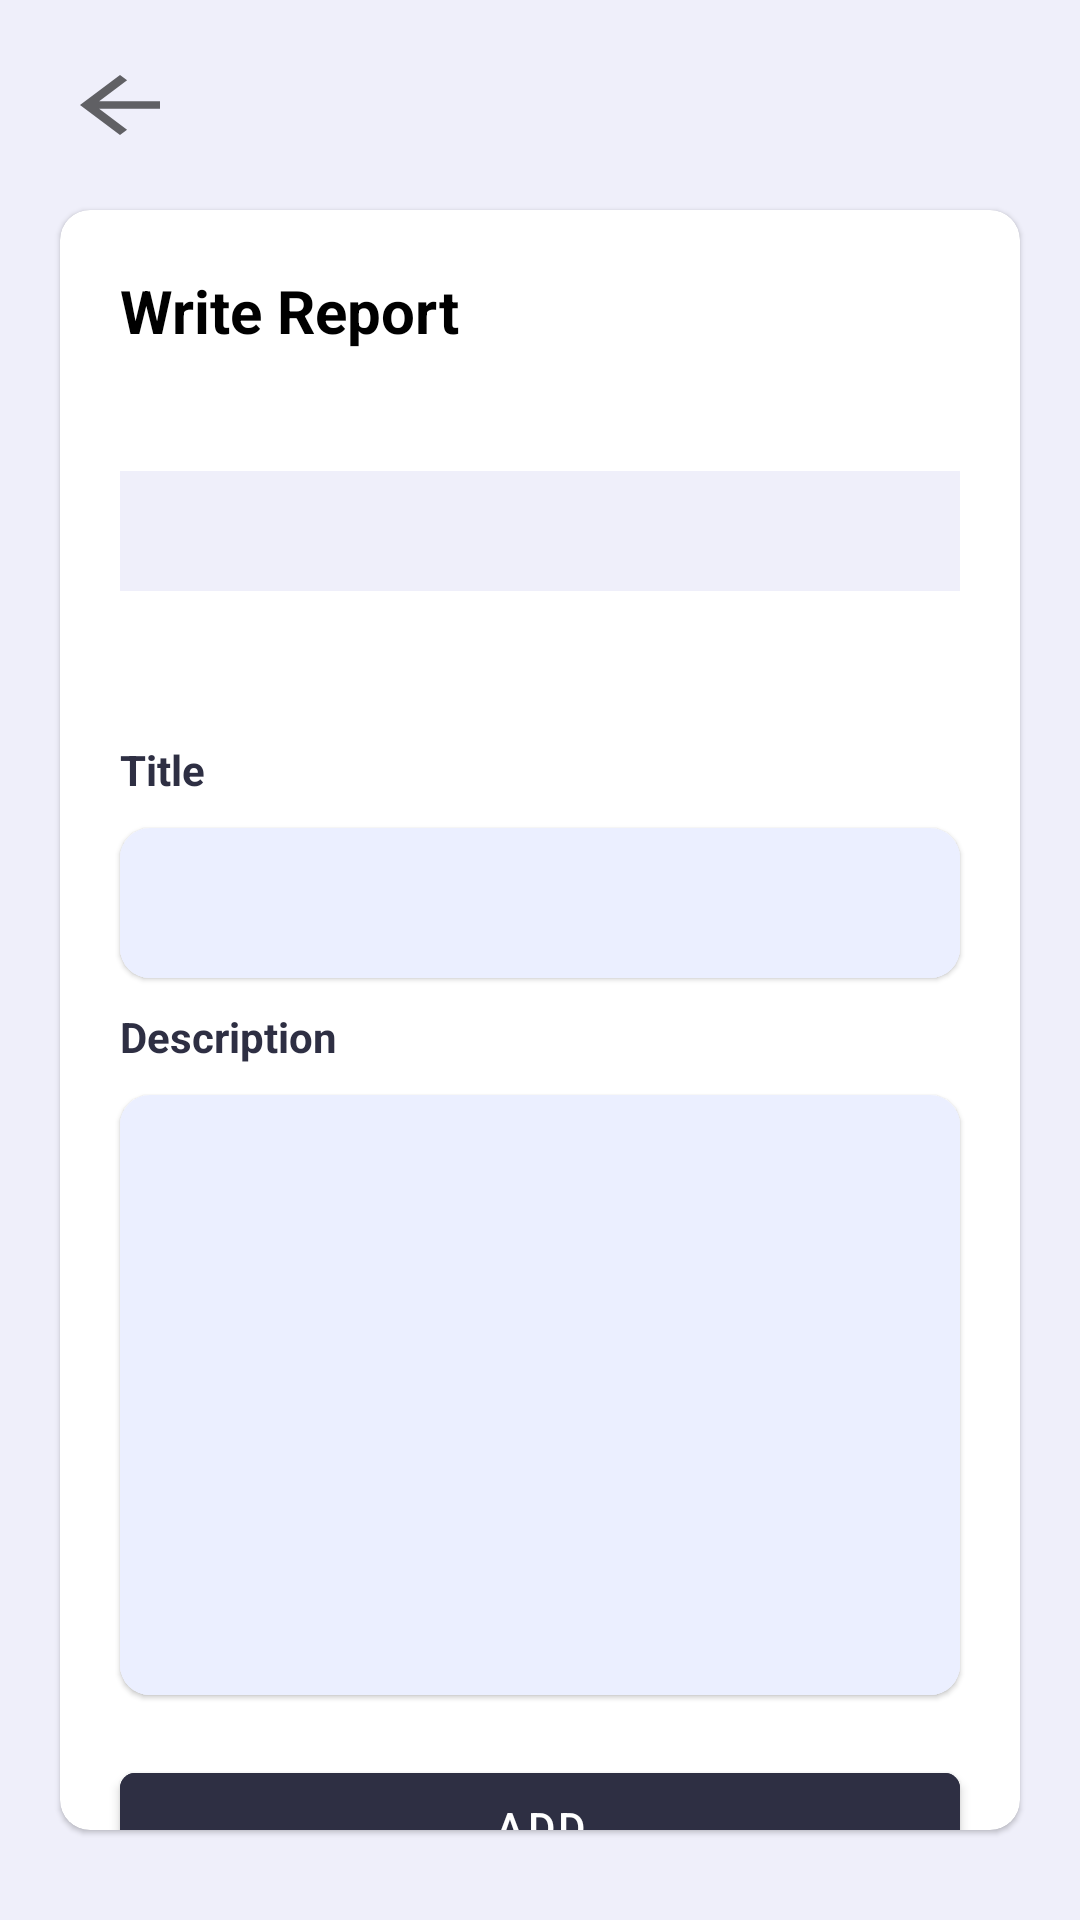

Icon click points for this 1080*1920 phone screenshot, format [x,y]:
arrow back: [120,105]
